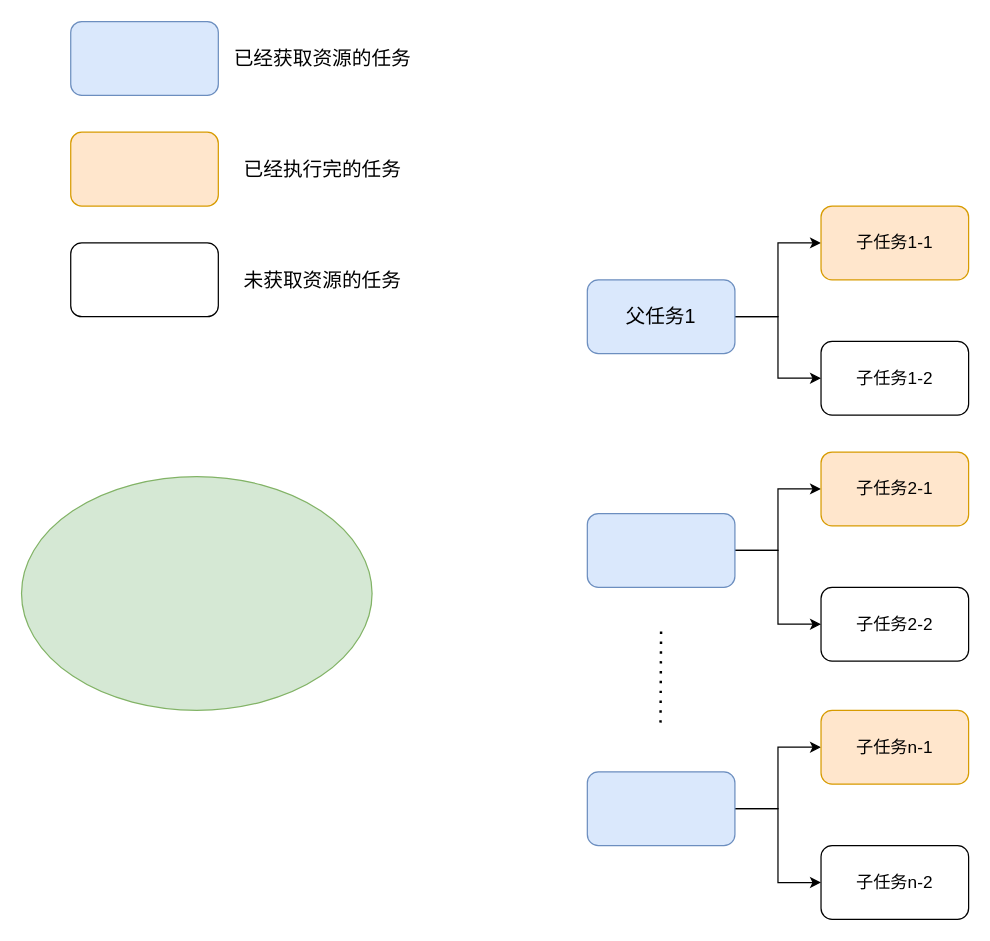
Image size: 990x941. Some labels were removed from this diagram. Here are the shapes that lost their labels. From the top down, the centre of each, then its label:
At [660,549]: "父任务2".
At [196,592]: "线程池资源（核心线程数为n）".
At [660,808]: "父任务n".
